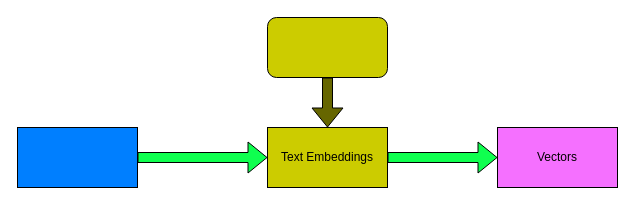
Some shapes in this 635 by 205 pixel diagram are drawn without their labels. The centre of each missing label's shape, as x and y in pixels:
"Model" goes at point (327, 47).
"Tokens" goes at point (77, 157).
